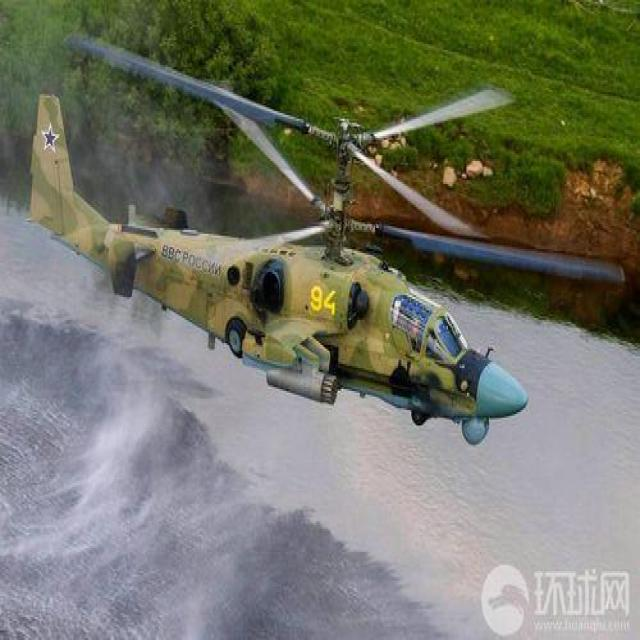MIL_HELO: (25, 28, 531, 456)
